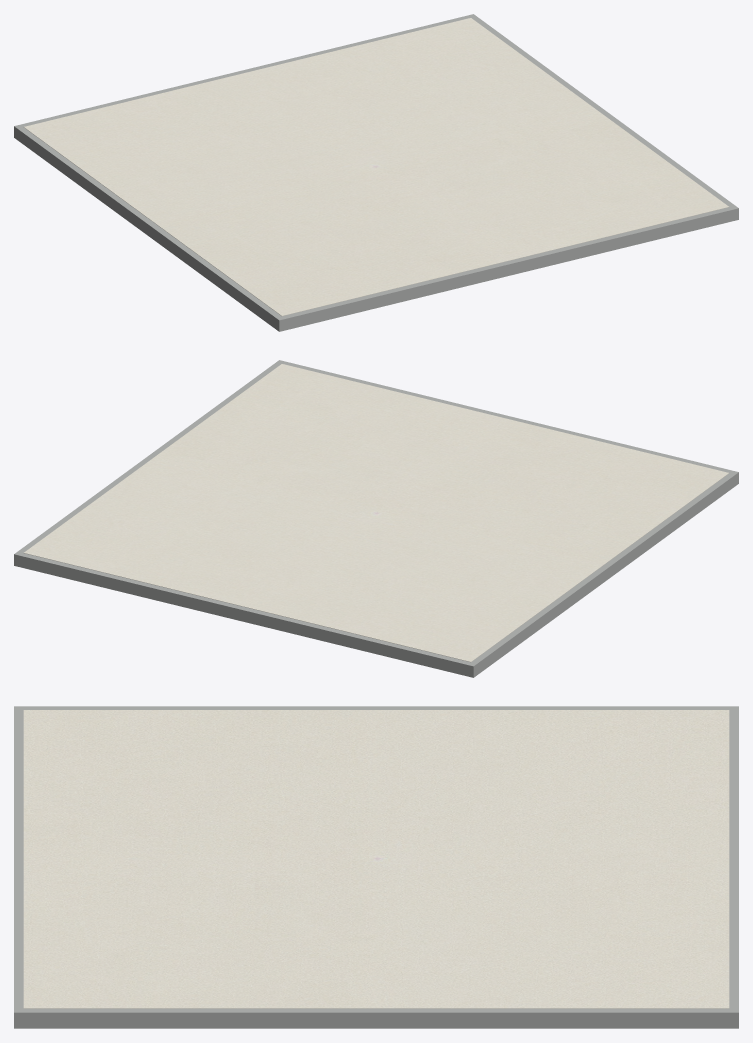
Rendered from ceiling_tile.glb.
The picture shows the model from 3 angles, top to bottom: view 1: azimuth 30°, elevation 25°; view 2: azimuth 150°, elevation 25°; view 3: azimuth 270°, elevation 25°; orthographic projection. The views are drawn at different scales.
Parts seen in each view (by area): view 1: Exact 750mm acoustic ceiling tile, Grid east west, Grid north south, Grid east west.001, Grid north south.001; view 2: Exact 750mm acoustic ceiling tile, Grid east west.001, Grid north south, Grid east west, Grid north south.001; view 3: Exact 750mm acoustic ceiling tile, Grid north south.001, Grid east west.001, Grid east west, Grid north south.
Boxes of the visible parts, x1,y1,x2,y2 form: Exact 750mm acoustic ceiling tile: (24,18,728,316); Grid east west: (275,205,738,331); Grid north south: (14,125,286,331); Grid east west.001: (14,14,476,140); Grid north south.001: (468,14,738,220); Exact 750mm acoustic ceiling tile: (24,364,728,662); Grid east west.001: (14,551,477,677); Grid north south: (466,471,738,677); Grid east west: (276,360,738,484); Grid north south.001: (14,360,285,567); Exact 750mm acoustic ceiling tile: (23,710,729,1008); Grid north south.001: (14,1008,738,1028); Grid east west.001: (727,706,738,1028); Grid east west: (14,706,25,1028); Grid north south: (17,706,733,709).
Bounding box in the file's own units: 0.75 × 0.0185 × 0.75.
2 materials, 1 textured.
